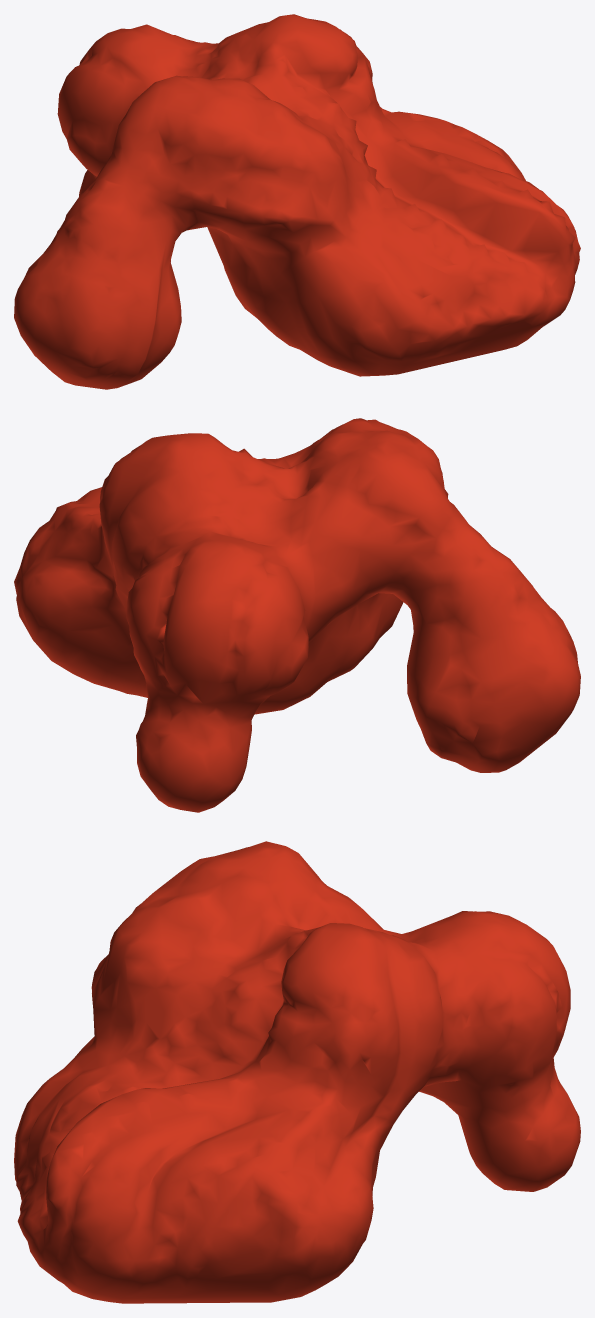
File: Scrungus_Mapped.fbx
The picture shows the model from 3 angles, top to bottom: view 1: azimuth 30°, elevation 25°; view 2: azimuth 150°, elevation 25°; view 3: azimuth 270°, elevation 25°; orthographic projection. The views are drawn at different scales.
Parts seen in each view (by area): view 1: potat; view 2: potat; view 3: potat.
Part boxes in pixels (x1,y1,x2,y2): potat: (14,14,580,389); potat: (14,418,580,812); potat: (14,841,580,1303).
Size of the model in its own units: 810 by 427 by 696.
